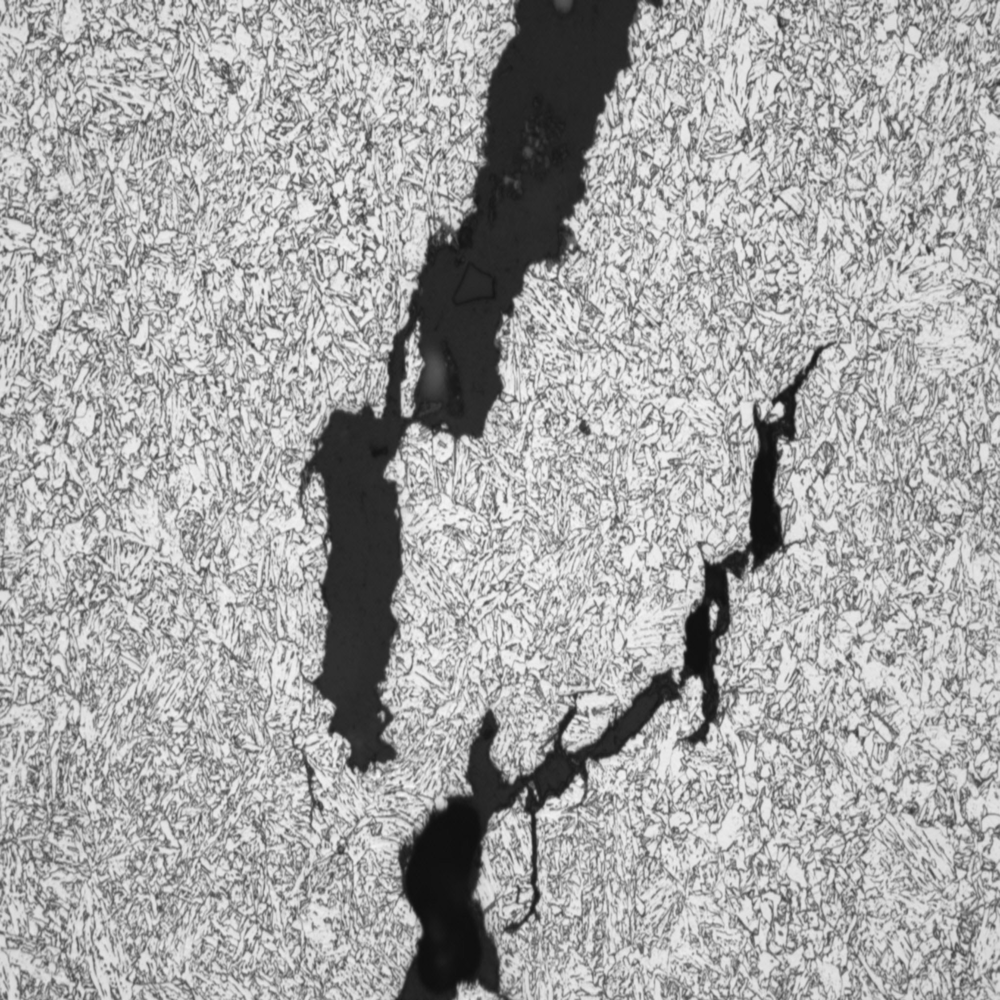crack: (371, 323, 853, 1000), (294, 1, 632, 824)
